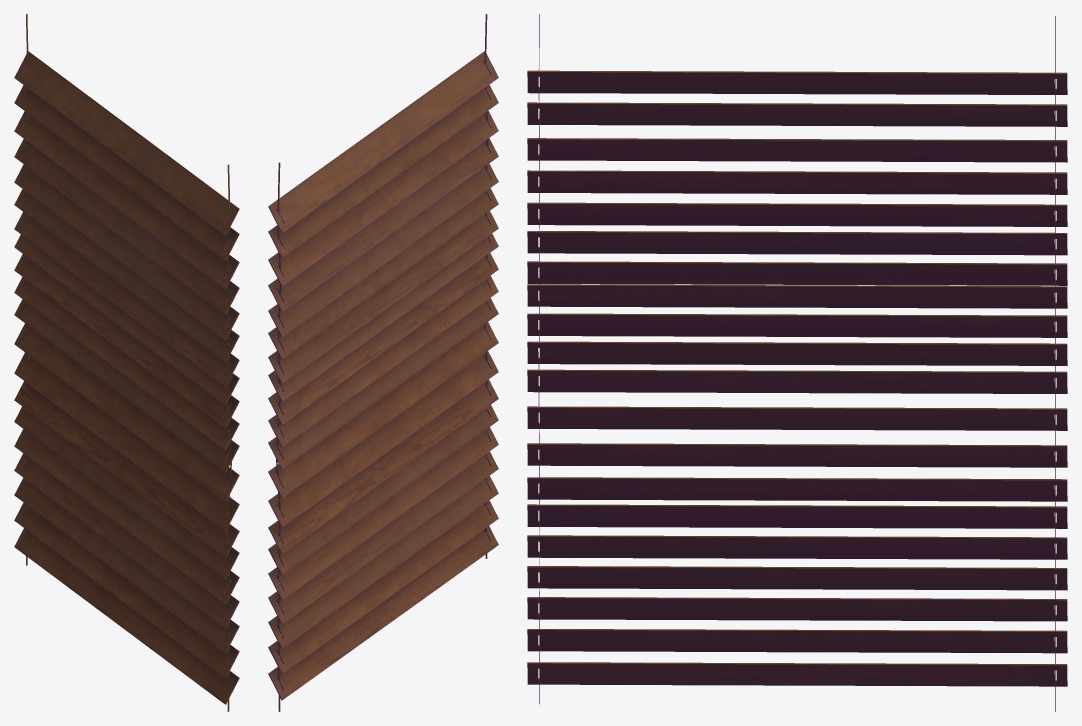
The model's file is Door Blinds.fbx.
3 views of the same model, side by side, from view 1: azimuth 30°, elevation 25°; view 2: azimuth 150°, elevation 25°; view 3: azimuth 270°, elevation 25° (orthographic). The views are drawn at different scales.
Visible parts, largest first — view 1: Door Blinds; view 2: Door Blinds; view 3: Door Blinds.
Part boxes in pixels (x1,y1,x2,y2): Door Blinds: (14,14,239,711); Door Blinds: (268,14,498,711); Door Blinds: (527,14,1067,711).
Bounding box in the file's own units: 3.36 × 99.28 × 69.91.
